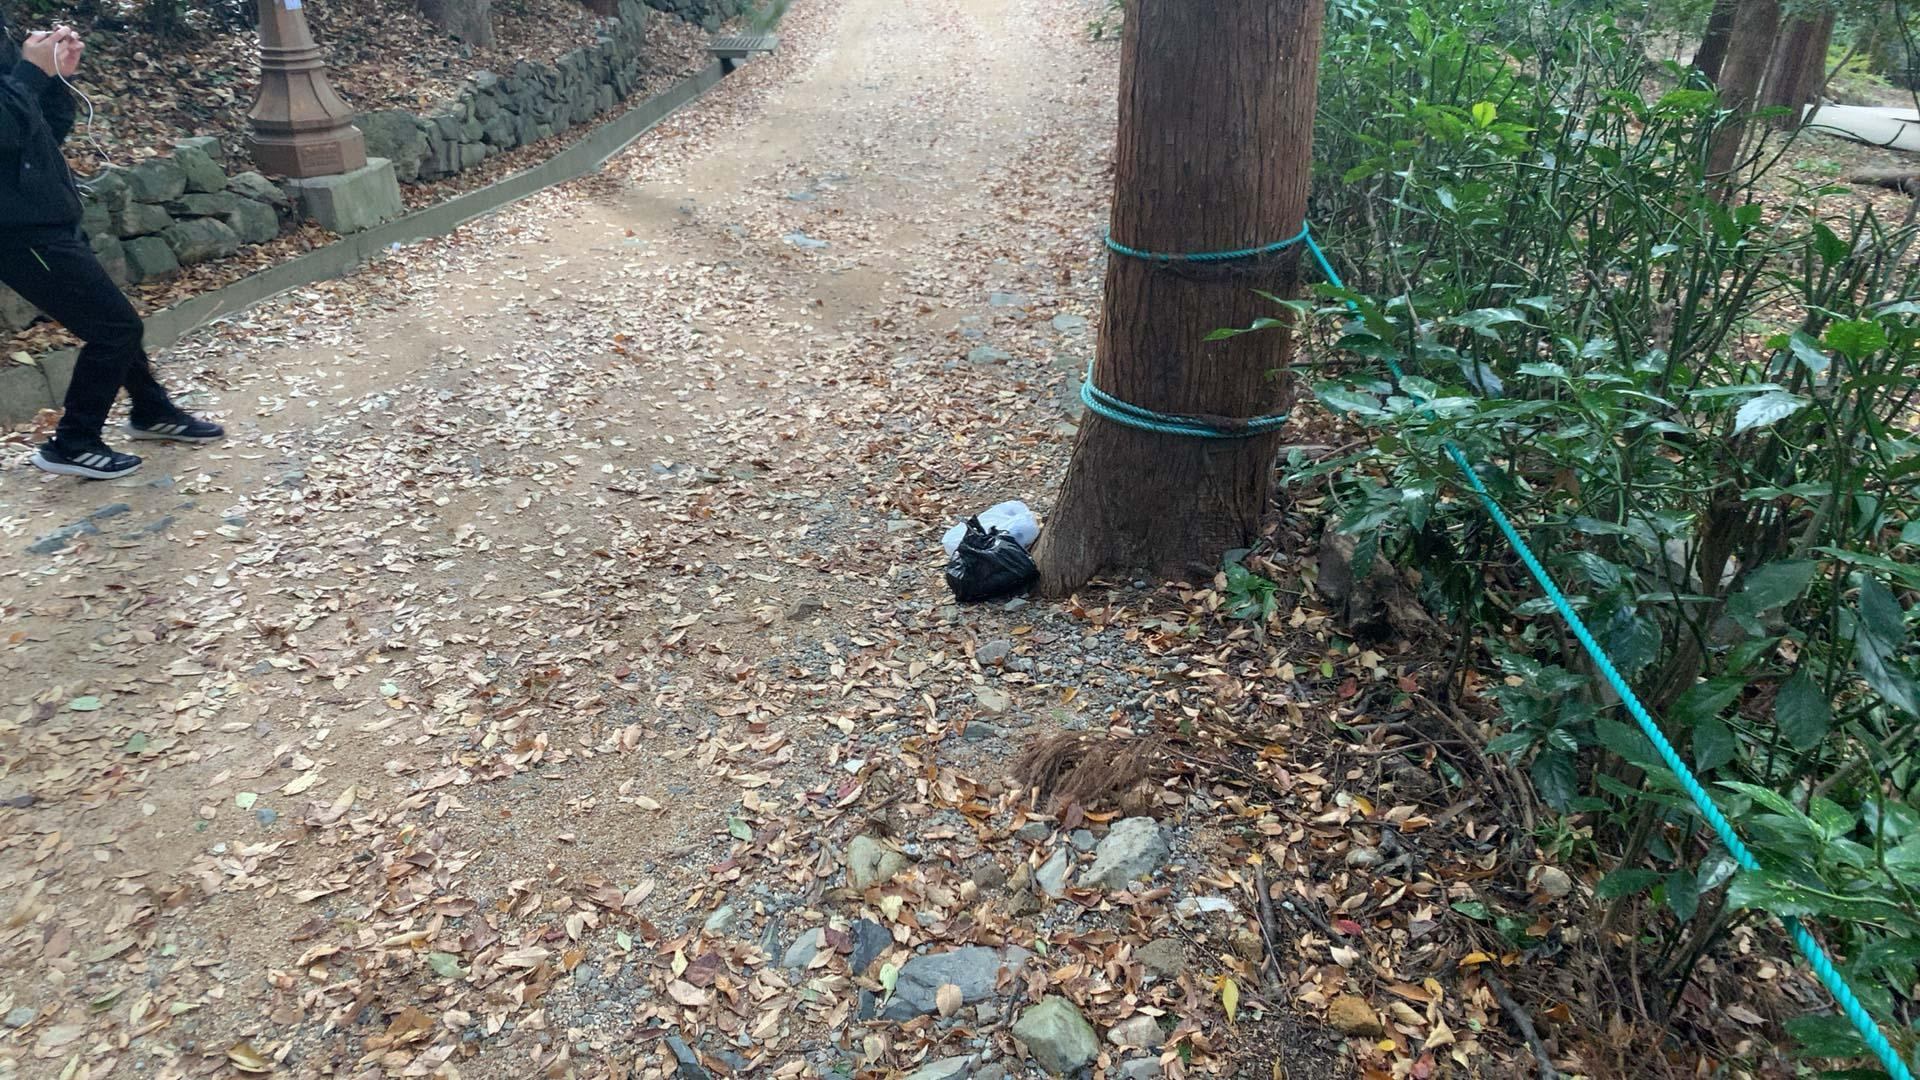black_bag: (939, 508, 1040, 601)
white_bag: (935, 492, 1040, 560)
